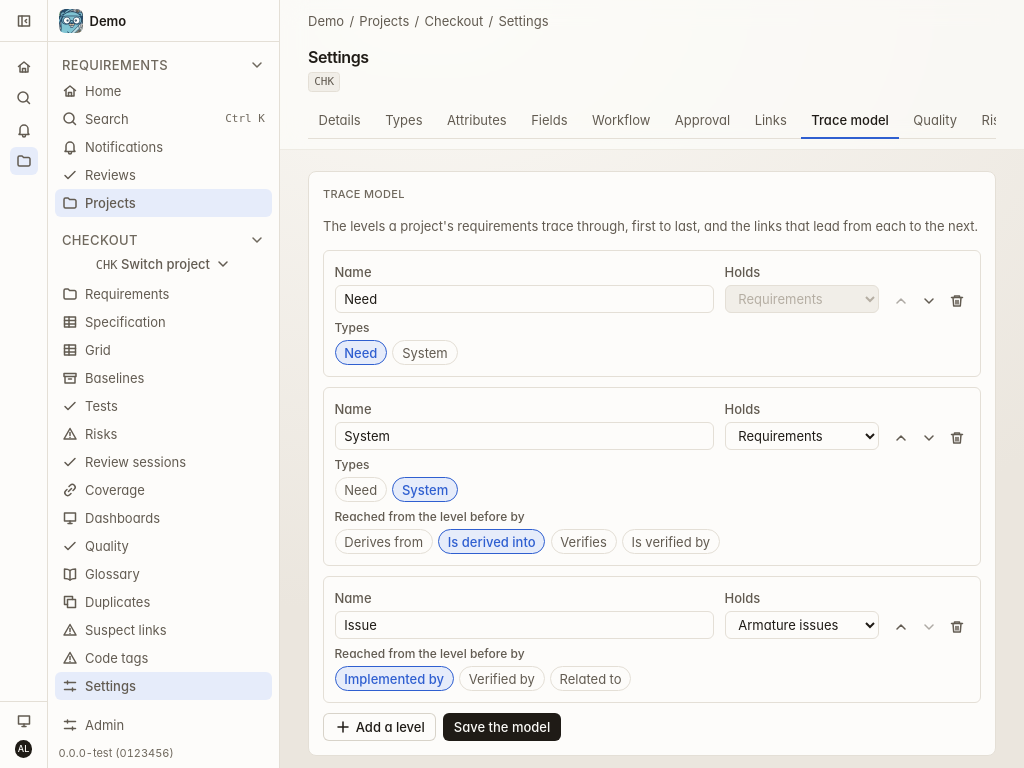
Test case: the trace model › says a refusal beside the level it is about
Click the button "Save the model": point(502, 727) x1=443 y1=713 x2=561 y2=741
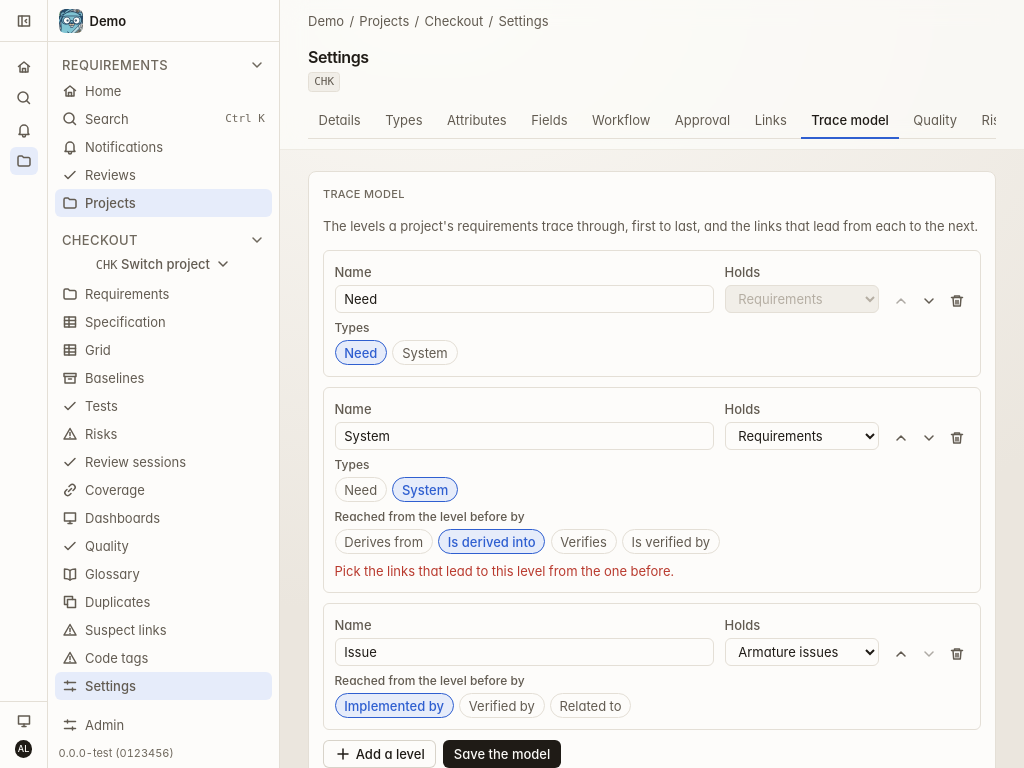
Result: the text "Pick the links that lead to this level from the one before." is shown at x1=334 y1=563 x2=674 y2=579
